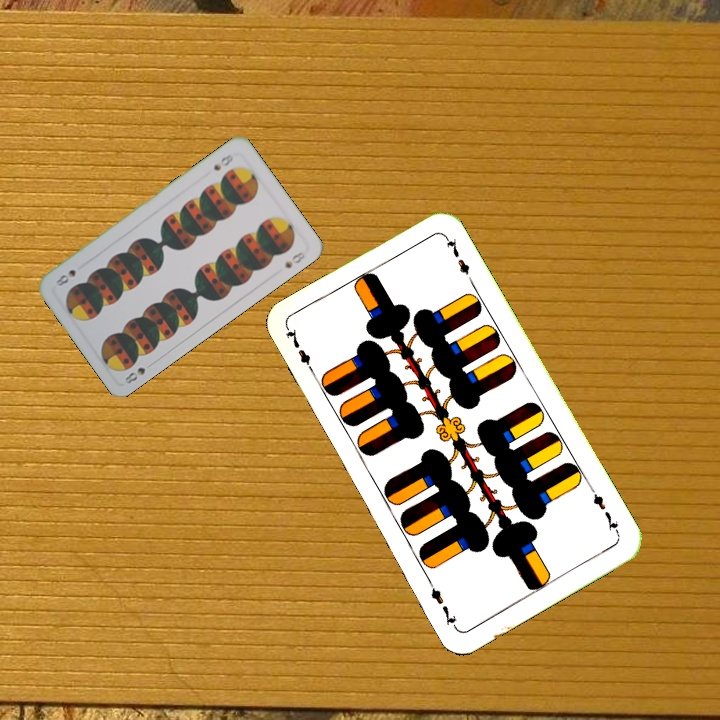E7: (281, 324, 319, 379), (586, 484, 622, 538)
S8: (120, 358, 157, 386), (209, 150, 236, 173)
